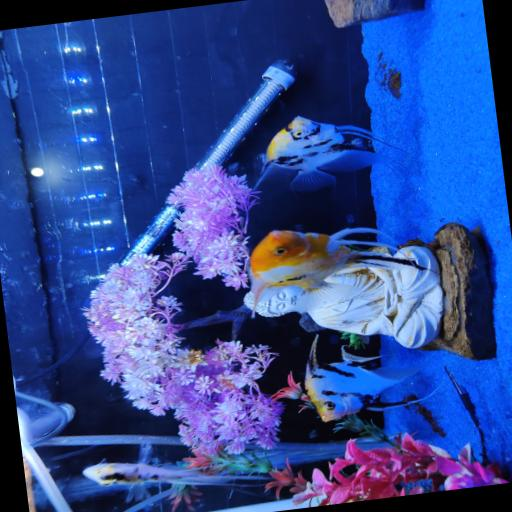Fish: (249, 228, 427, 316), (305, 335, 430, 422), (256, 117, 396, 191), (83, 463, 270, 486)
